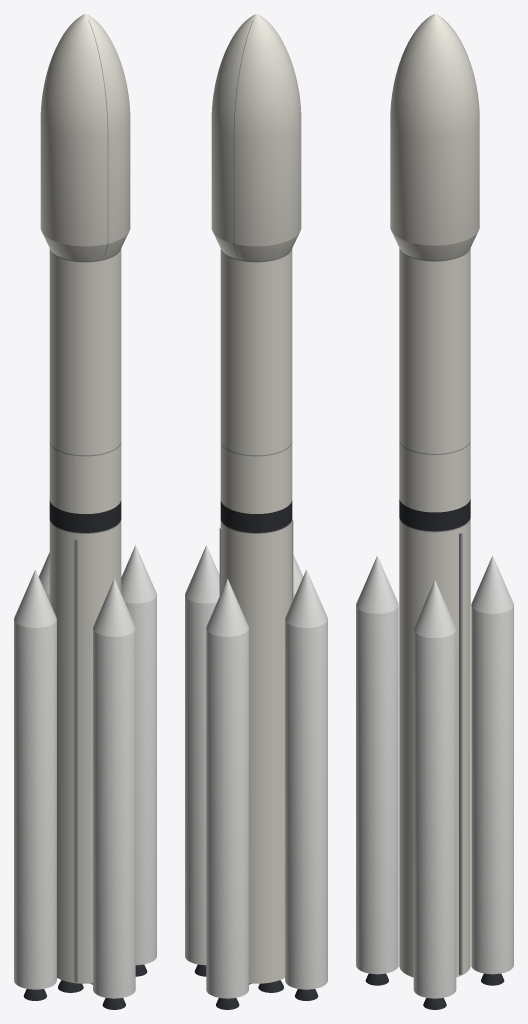
3 renders of one model, left to right at view 1: azimuth 30°, elevation 25°; view 2: azimuth 150°, elevation 25°; view 3: azimuth 270°, elevation 25°, orthographic.
Parts seen in each view (by area): view 1: lm6a; view 2: lm6a; view 3: lm6a.
Boxes of the visible parts, x1,y1,x2,y2 form: lm6a: (14, 14, 156, 1009); lm6a: (185, 14, 327, 1009); lm6a: (356, 14, 513, 1009).
Bounding box in the file's own units: 7.4 × 50 × 7.4.
1 material, 1 textured.
